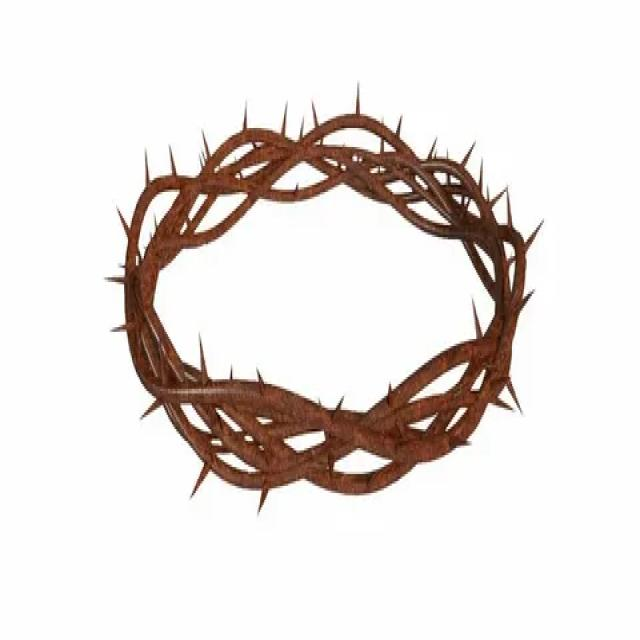crown: (107, 90, 557, 522)
